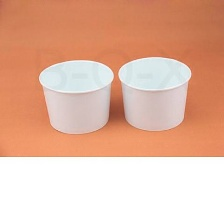paper_cup: (34, 55, 117, 137), (115, 51, 194, 133)
